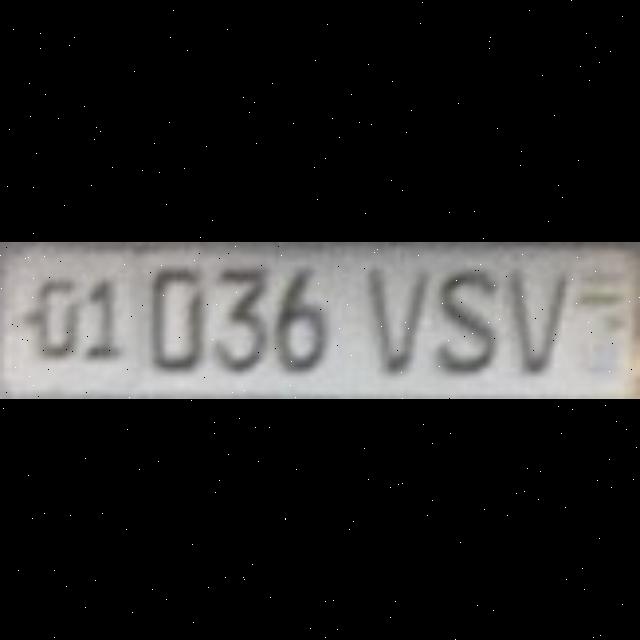0: (146, 265, 200, 363), (32, 272, 78, 352)
1: (82, 276, 118, 352)
3: (208, 265, 268, 367)
6: (270, 265, 322, 367)
S: (432, 265, 491, 371)
V: (502, 265, 566, 371), (366, 265, 428, 371)
